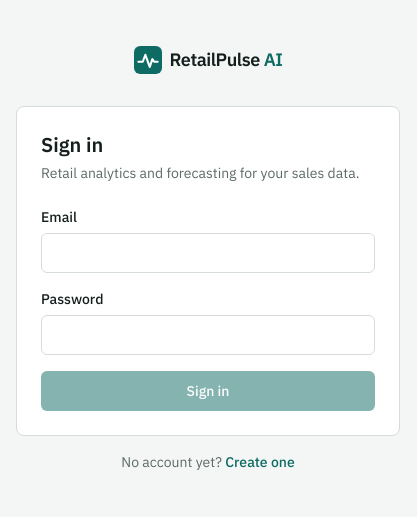
it: LoginPage › shows the server's message when sign-in fails
The width and height of the screenshot is (417, 517).
Type "me@example.com" into the field labelled "Email" at (208, 253), box [41, 233, 375, 273]
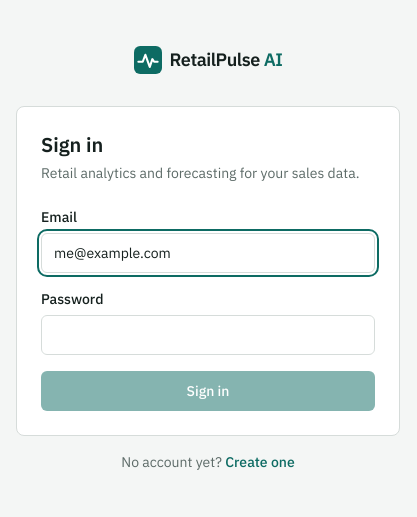
Type "wrong password!!" into the password field labelled "Password" at (208, 335), box [41, 315, 375, 355]
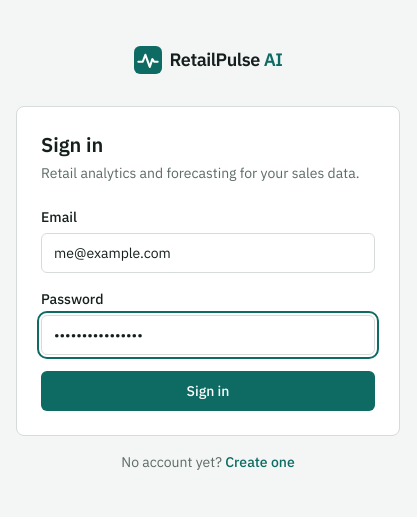
Click the button "Sign in" at (208, 391), box [41, 371, 375, 411]
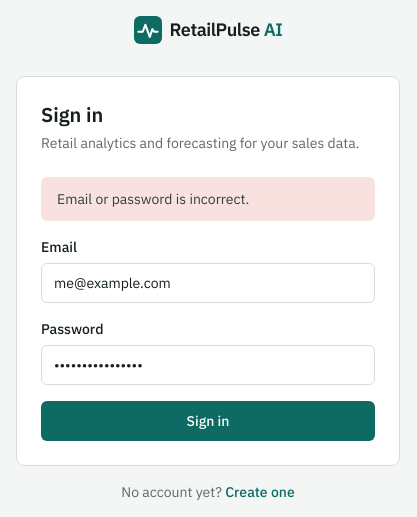
Result: the message reads "Email or password is incorrect." at [57, 190, 249, 208]
